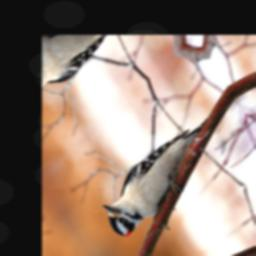Woodpecker: (96, 105, 229, 248)
